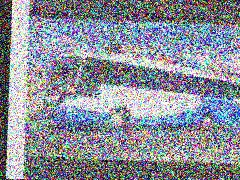bus: (42, 41, 240, 136)
